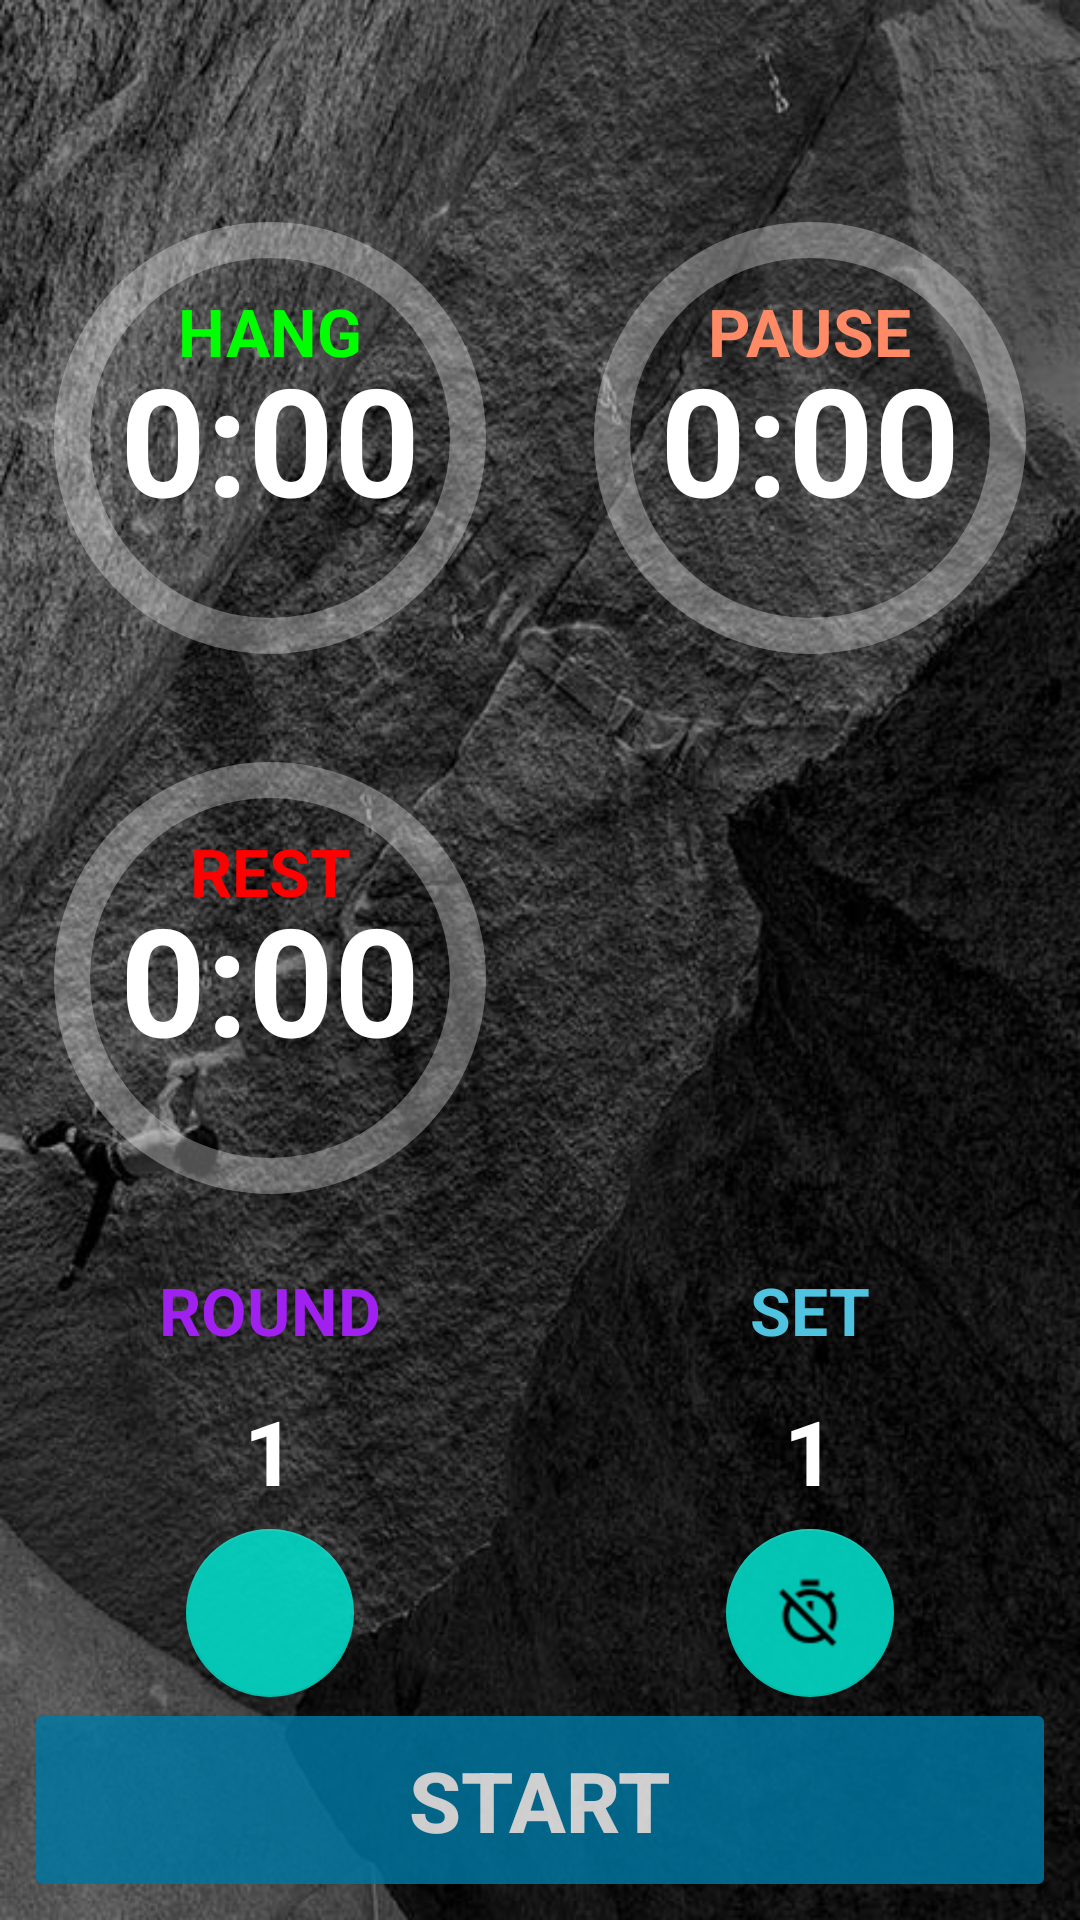

Where icons sit on this 1080w x 1920h app screen, as (left=x1, top=y1, right=x2, bottom=y2):
timer off: (left=726, top=1529, right=894, bottom=1697)
